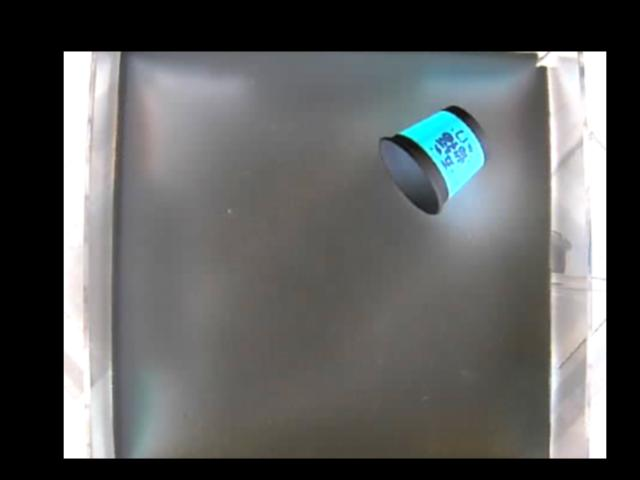Cup: (376, 104, 495, 215)
